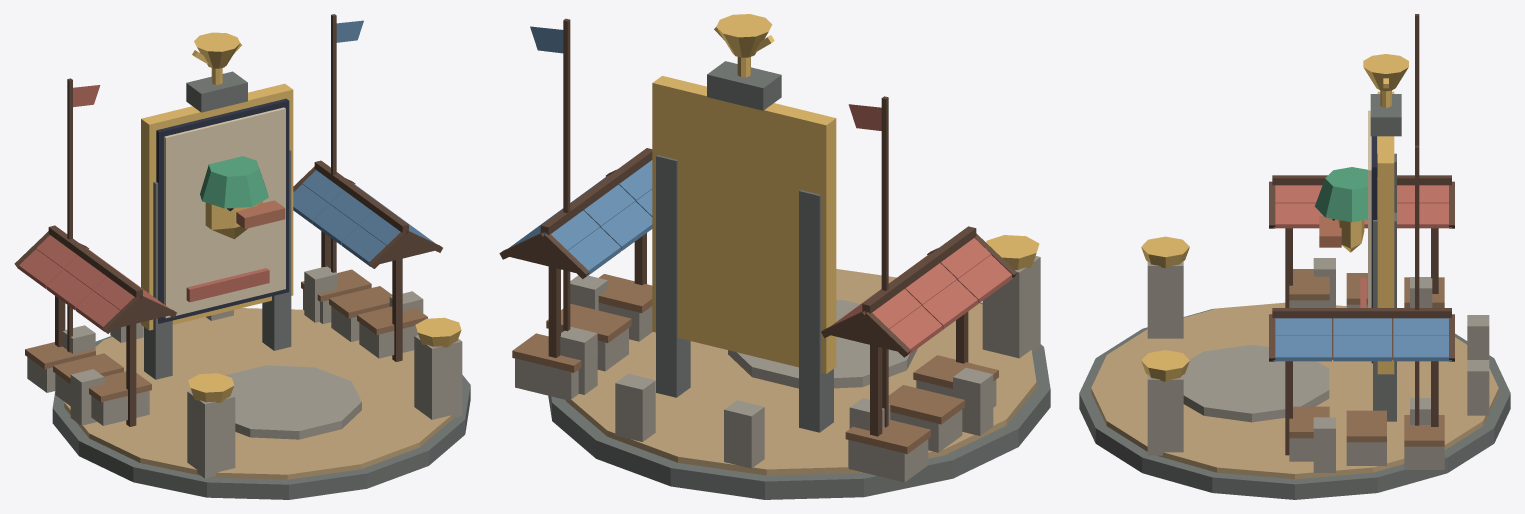
File: ENV_Landmark_battle_LOD1.glb
3 views of the same model, side by side, from view 1: azimuth 30°, elevation 25°; view 2: azimuth 150°, elevation 25°; view 3: azimuth 270°, elevation 25° (orthographic). The views are drawn at different scales.
Visible parts, largest first — view 1: ENV_Landmark_battle_LOD1_s3-6_sand, ENV_Landmark_battle_LOD1_s4-6_stone, ENV_Landmark_battle_LOD1_s3-6_plasterIvory, ENV_Landmark_battle_LOD1_s3-6_stoneDark, ENV_Landmark_battle_LOD1_s4-6_woodDark, ENV_Landmark_battle_LOD1_s3-6_gold, ENV_Landmark_battle_LOD1_s3-6_woodLight, ENV_Landmark_battle_LOD1_s4-6_red, ENV_Landmark_battle_LOD1_s4-6_blue, ENV_Landmark_battle_LOD1_s3-6_stone, ENV_Landmark_battle_LOD1_s3-6_ink, ENV_Landmark_battle_LOD1_s3-6_emerald (+7 smaller); view 2: ENV_Landmark_battle_LOD1_s3-6_gold, ENV_Landmark_battle_LOD1_s3-6_stoneDark, ENV_Landmark_battle_LOD1_s3-6_sand, ENV_Landmark_battle_LOD1_s4-6_stone, ENV_Landmark_battle_LOD1_s4-6_woodDark, ENV_Landmark_battle_LOD1_s3-6_woodLight, ENV_Landmark_battle_LOD1_s3-6_stone, ENV_Landmark_battle_LOD1_s4-6_red, ENV_Landmark_battle_LOD1_s4-6_blue, ENV_Landmark_battle_LOD1_s5-6_woodDark, ENV_Landmark_battle_LOD1_s6-6_stoneDark, ENV_Landmark_battle_LOD1_s6-6_gold (+3 smaller); view 3: ENV_Landmark_battle_LOD1_s3-6_sand, ENV_Landmark_battle_LOD1_s4-6_stone, ENV_Landmark_battle_LOD1_s3-6_stoneDark, ENV_Landmark_battle_LOD1_s4-6_blue, ENV_Landmark_battle_LOD1_s4-6_woodDark, ENV_Landmark_battle_LOD1_s3-6_woodLight, ENV_Landmark_battle_LOD1_s4-6_red, ENV_Landmark_battle_LOD1_s3-6_gold, ENV_Landmark_battle_LOD1_s3-6_stone, ENV_Landmark_battle_LOD1_s3-6_emerald, ENV_Landmark_battle_LOD1_s4-6_gold, ENV_Landmark_battle_LOD1_s5-6_woodDark (+5 smaller).
Boxes of the visible parts, x1,y1,x2,y2 form: ENV_Landmark_battle_LOD1_s3-6_sand: [64, 308, 453, 479]; ENV_Landmark_battle_LOD1_s4-6_stone: [62, 266, 462, 478]; ENV_Landmark_battle_LOD1_s3-6_plasterIvory: [164, 107, 285, 318]; ENV_Landmark_battle_LOD1_s3-6_stoneDark: [52, 150, 470, 499]; ENV_Landmark_battle_LOD1_s4-6_woodDark: [14, 160, 442, 426]; ENV_Landmark_battle_LOD1_s3-6_gold: [141, 83, 293, 330]; ENV_Landmark_battle_LOD1_s3-6_woodLight: [25, 269, 427, 402]; ENV_Landmark_battle_LOD1_s4-6_red: [17, 235, 168, 331]; ENV_Landmark_battle_LOD1_s4-6_blue: [293, 170, 434, 266]; ENV_Landmark_battle_LOD1_s3-6_stone: [27, 289, 418, 425]; ENV_Landmark_battle_LOD1_s3-6_ink: [156, 98, 289, 323]; ENV_Landmark_battle_LOD1_s3-6_emerald: [200, 156, 268, 208]; ENV_Landmark_battle_LOD1_s3-6_gold: [652, 76, 836, 373]; ENV_Landmark_battle_LOD1_s3-6_stoneDark: [548, 155, 1050, 499]; ENV_Landmark_battle_LOD1_s3-6_sand: [565, 269, 1036, 475]; ENV_Landmark_battle_LOD1_s4-6_stone: [560, 256, 1040, 468]; ENV_Landmark_battle_LOD1_s4-6_woodDark: [499, 148, 1017, 436]; ENV_Landmark_battle_LOD1_s3-6_woodLight: [512, 274, 998, 454]; ENV_Landmark_battle_LOD1_s3-6_stone: [515, 303, 996, 482]; ENV_Landmark_battle_LOD1_s4-6_red: [831, 238, 1013, 355]; ENV_Landmark_battle_LOD1_s4-6_blue: [509, 160, 652, 276]; ENV_Landmark_battle_LOD1_s5-6_woodDark: [563, 18, 888, 427]; ENV_Landmark_battle_LOD1_s6-6_stoneDark: [707, 61, 781, 110]; ENV_Landmark_battle_LOD1_s6-6_gold: [714, 14, 774, 77]; ENV_Landmark_battle_LOD1_s3-6_sand: [1091, 302, 1498, 479]; ENV_Landmark_battle_LOD1_s4-6_stone: [1147, 258, 1489, 472]; ENV_Landmark_battle_LOD1_s3-6_stoneDark: [1079, 153, 1510, 499]; ENV_Landmark_battle_LOD1_s4-6_blue: [1273, 318, 1451, 361]; ENV_Landmark_battle_LOD1_s4-6_woodDark: [1269, 175, 1454, 455]; ENV_Landmark_battle_LOD1_s3-6_woodLight: [1289, 269, 1444, 446]; ENV_Landmark_battle_LOD1_s4-6_red: [1273, 185, 1451, 228]; ENV_Landmark_battle_LOD1_s3-6_gold: [1338, 91, 1394, 374]; ENV_Landmark_battle_LOD1_s3-6_stone: [1289, 300, 1444, 469]; ENV_Landmark_battle_LOD1_s3-6_emerald: [1314, 167, 1377, 222]; ENV_Landmark_battle_LOD1_s4-6_gold: [1141, 236, 1189, 381]; ENV_Landmark_battle_LOD1_s5-6_woodDark: [1415, 14, 1419, 425].
Size of the model in its own units: 9 by 7.93 by 9.
